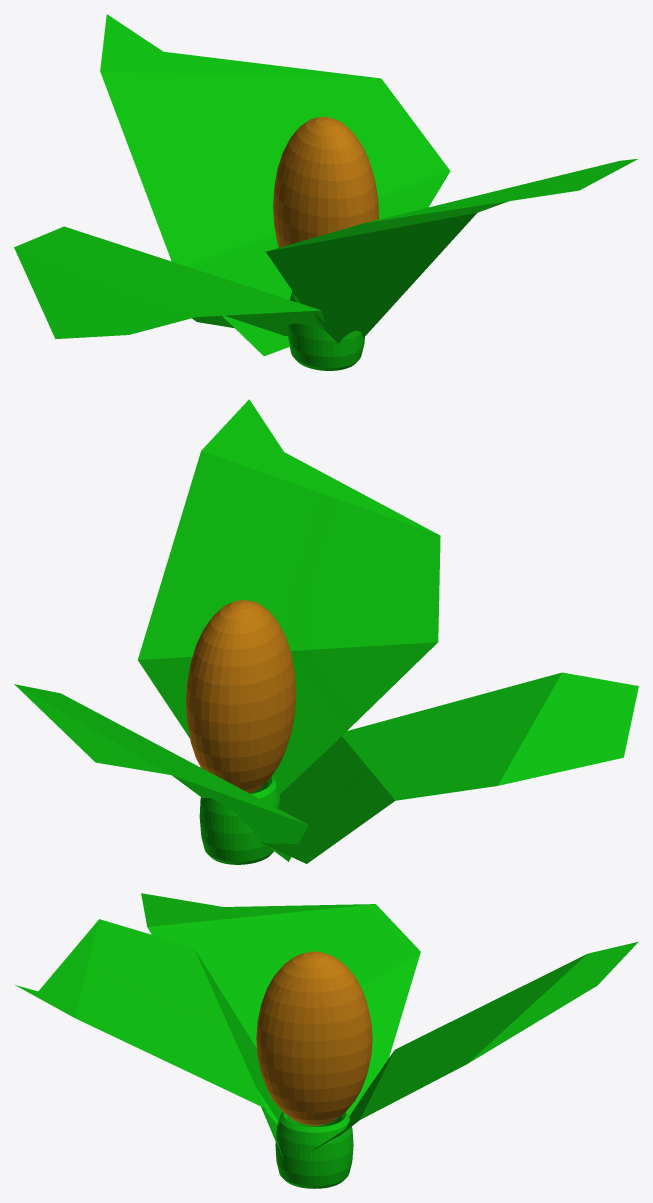
Rendered from food-v2.glb.
The picture shows the model from 3 angles, top to bottom: view 1: azimuth 30°, elevation 25°; view 2: azimuth 150°, elevation 25°; view 3: azimuth 270°, elevation 25°; orthographic projection. The views are drawn at different scales.
Parts seen in each view (by area): view 1: Plane.001, Plane.002, Plane, Sphere, Torus; view 2: Plane, Plane.002, Sphere, Plane.001, Torus; view 3: Plane, Plane.002, Sphere, Plane.001, Torus.
Boxes of the visible parts, box(x1,y1,x2,y2) form: Plane.001: box(100, 14, 450, 356); Plane.002: box(14, 226, 325, 339); Plane: box(266, 158, 638, 343); Sphere: box(273, 117, 378, 247); Torus: box(288, 291, 364, 370); Plane: box(138, 399, 440, 794); Plane.002: box(261, 672, 638, 863); Sphere: box(186, 600, 296, 793); Plane.001: box(14, 684, 308, 861); Torus: box(199, 776, 280, 864); Plane: box(15, 919, 283, 1158); Plane.002: box(141, 893, 420, 1124); Sphere: box(256, 951, 372, 1125); Plane.001: box(308, 941, 638, 1152); Torus: box(275, 1112, 353, 1188).
Bounding box in the file's own units: 3.52 × 1.93 × 4.19.
5 materials, 5 textured.
